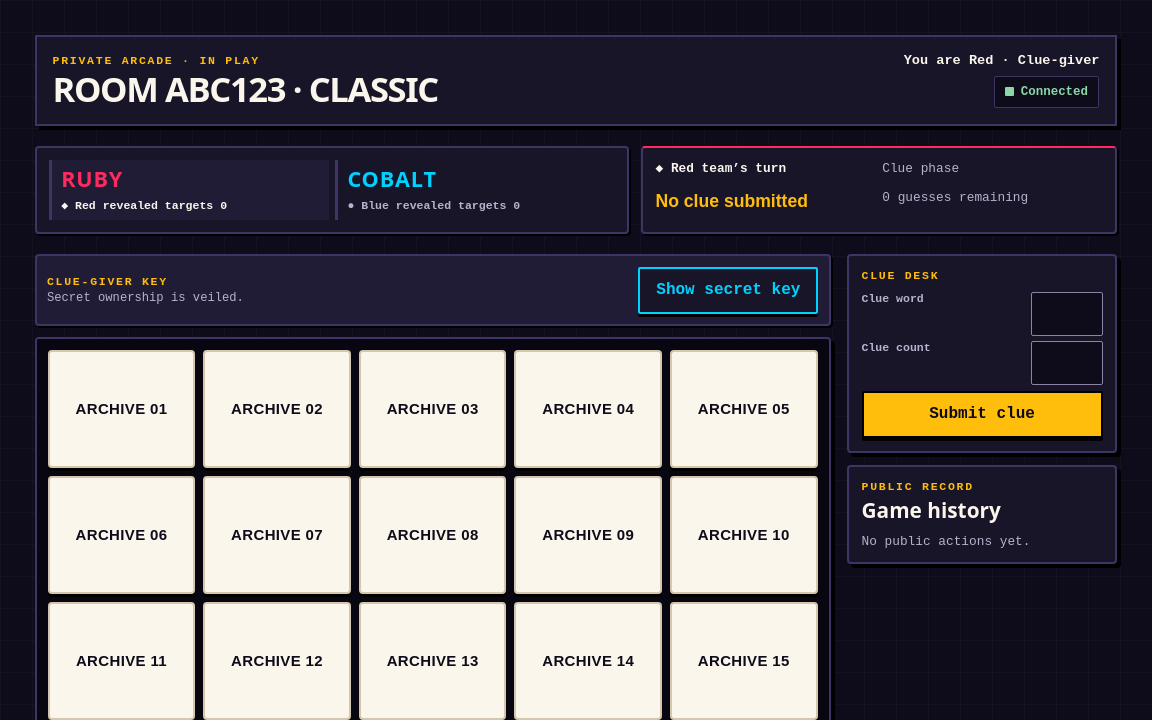
Scenario: GameView clue-giver controls › rejects invalid syntax and counts above the authorized unrevealed own-target maximum
Type "two words" into the field labelled "Clue word" at (1067, 314), box [1031,292,1103,336]
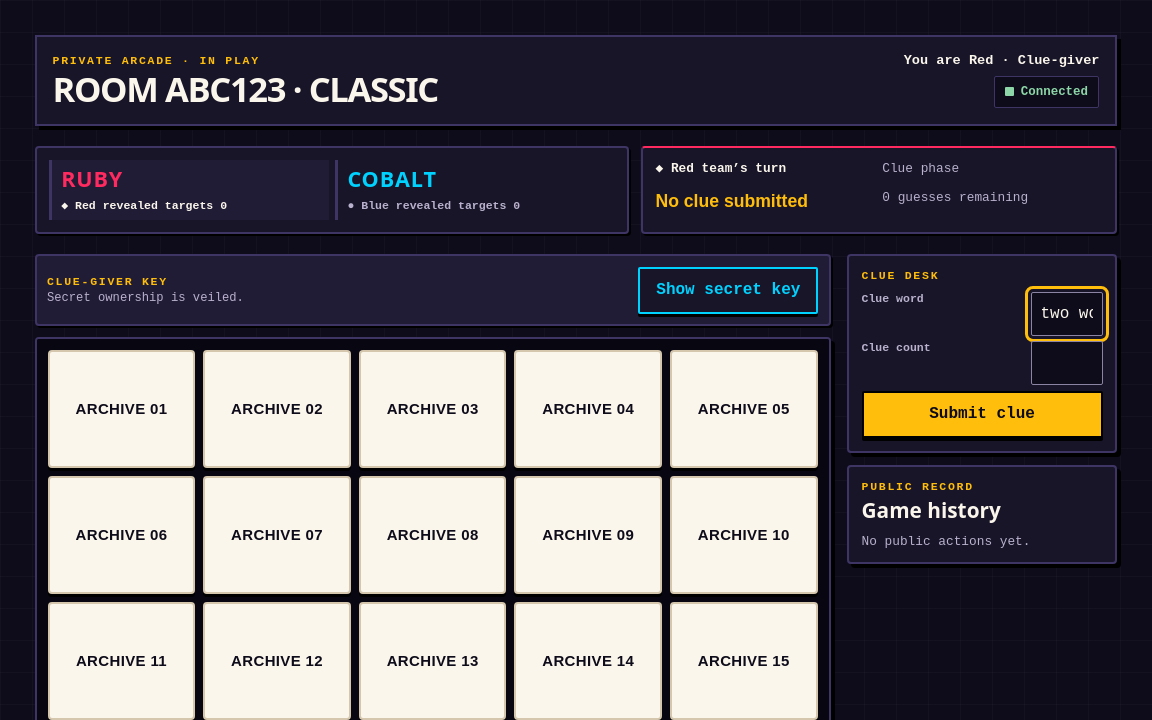
Type "3" into the number field labelled "Clue count" at (1067, 363), box [1031,341,1103,385]
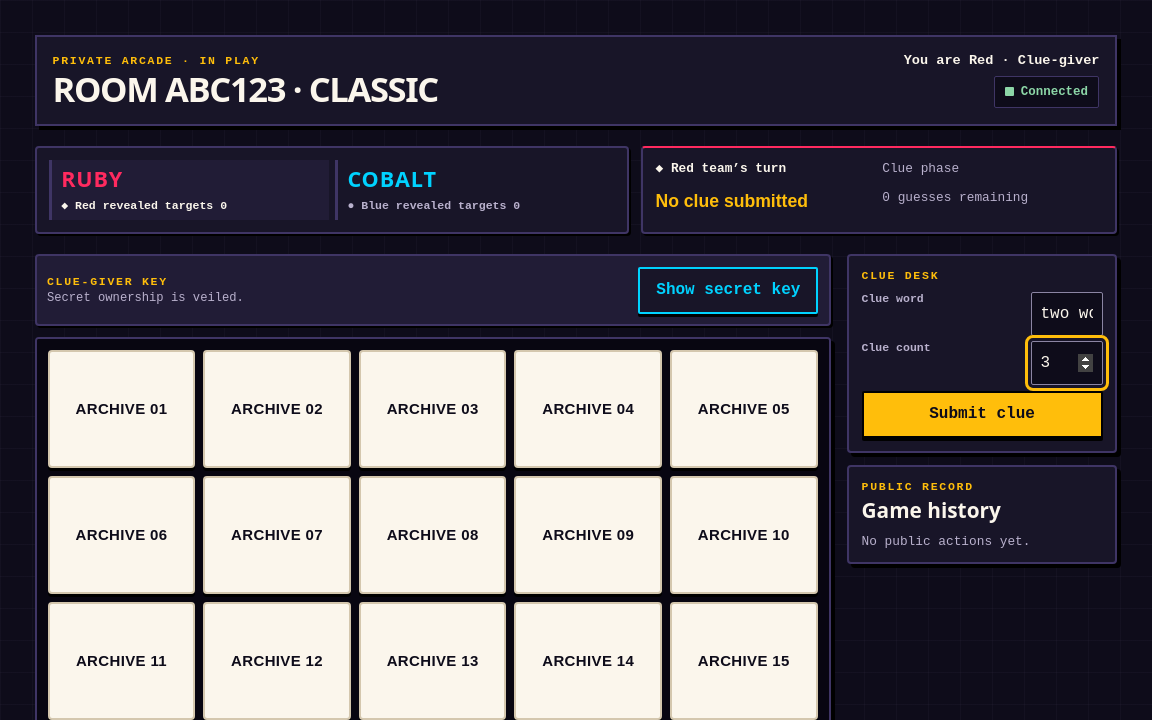
Click the button "Submit clue" at (982, 415), box [862,391,1103,438]
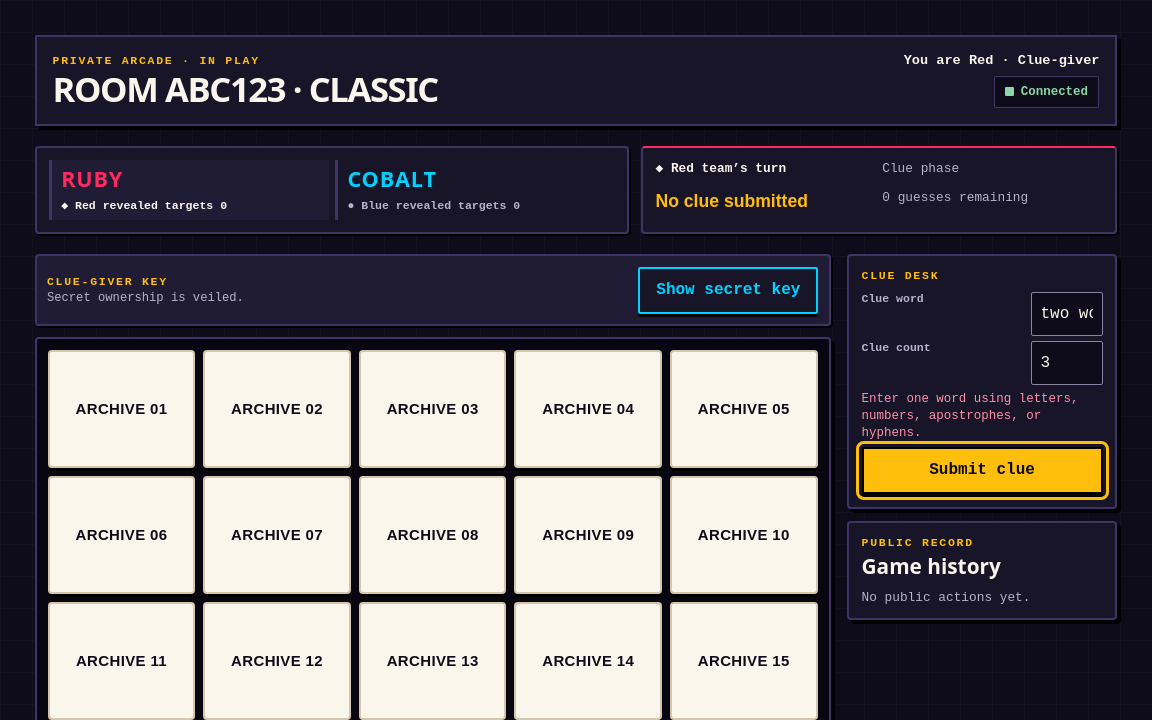
Expected: the message "Enter one word using letters, numbers, apostrophes, or hyphens." is shown, [862,391,1103,442]
Replace the text in the field labelled "Clue word" with "Harbor" at (1067, 314), box [1031,292,1103,336]
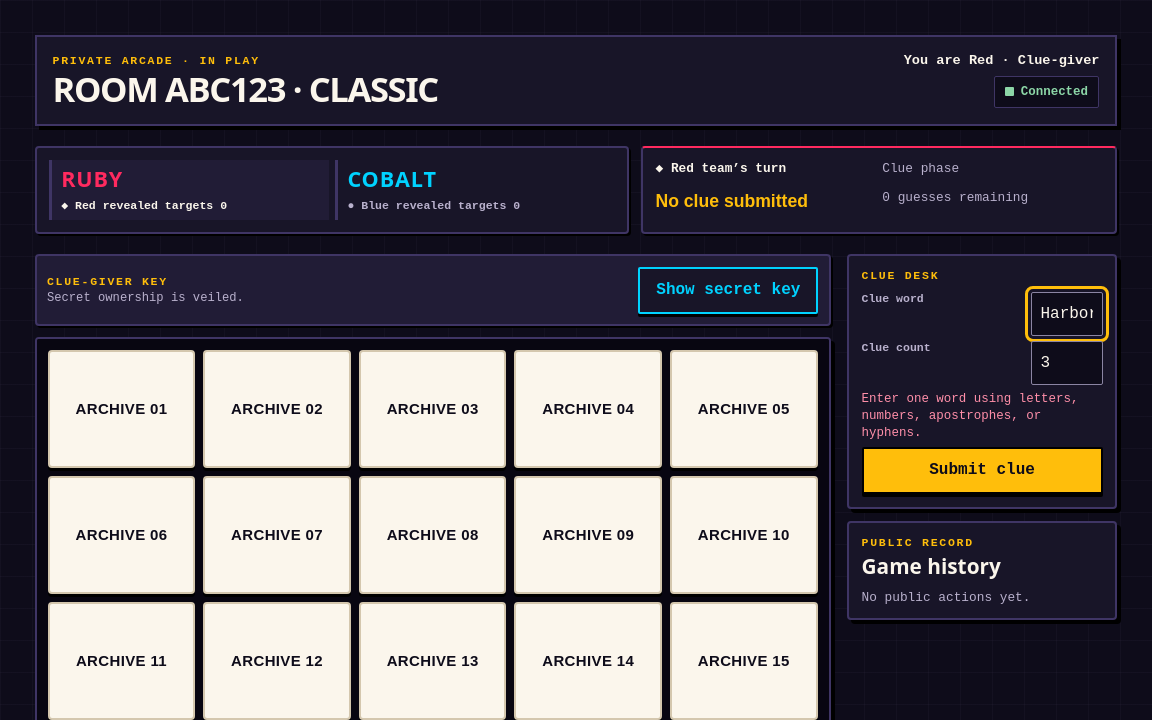
Click the button "Submit clue" at (982, 471), box [862,447,1103,494]
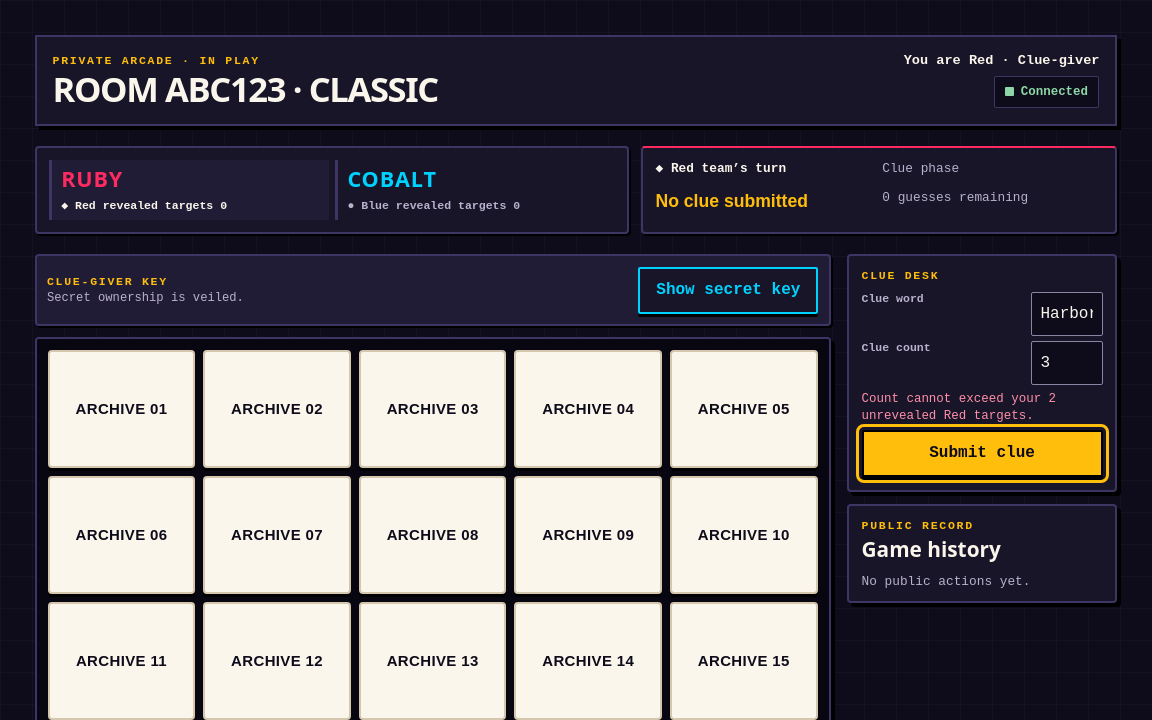
Expected: the message "Count cannot exceed your 2 unrevealed Red targets." is shown, [862,392,1056,423]
